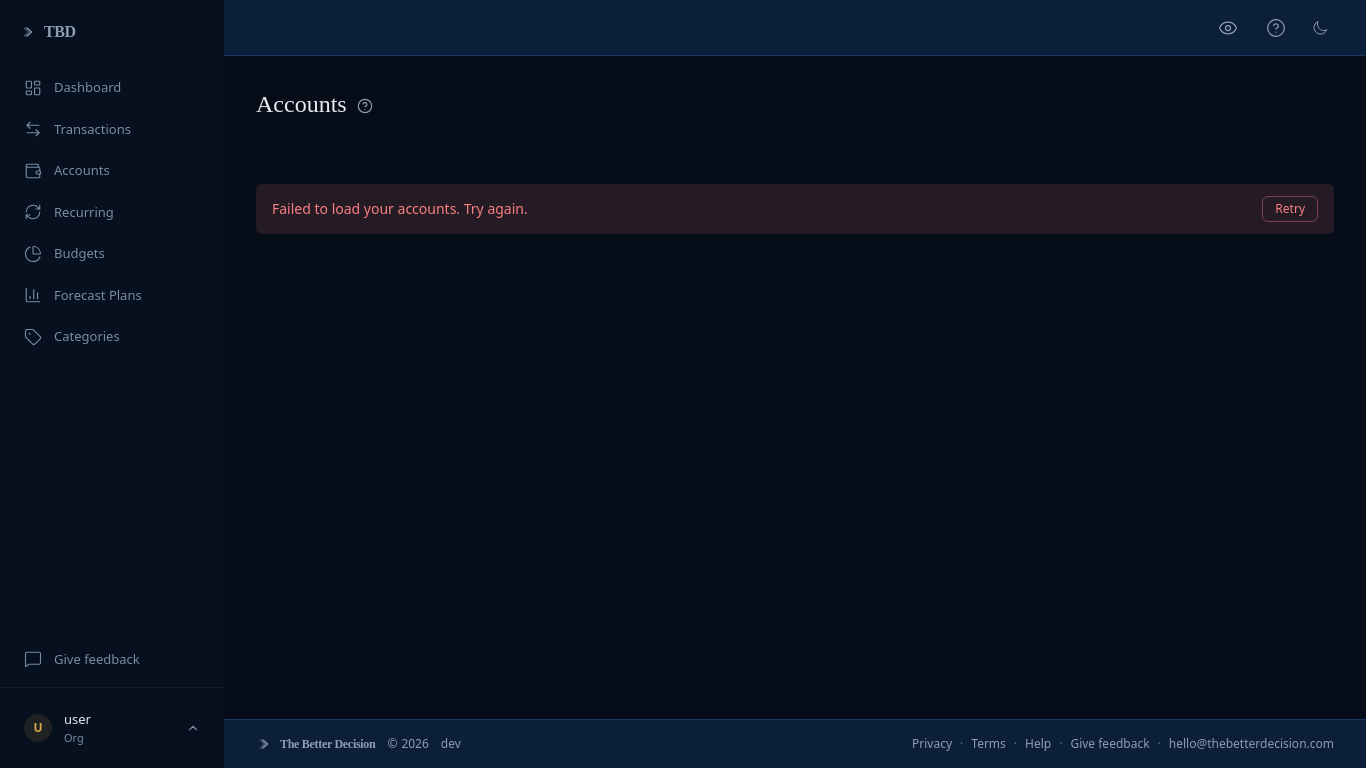
AccountsPage initial fetch error › retry refetches and renders the list on success
This screenshot has width=1366, height=768.
Expected: the message "Failed to load your accounts. Try again. Retry" is shown, [256, 184, 1334, 234]
Step 1. Click the button "Retry" → (1290, 209), box [1262, 196, 1318, 222]
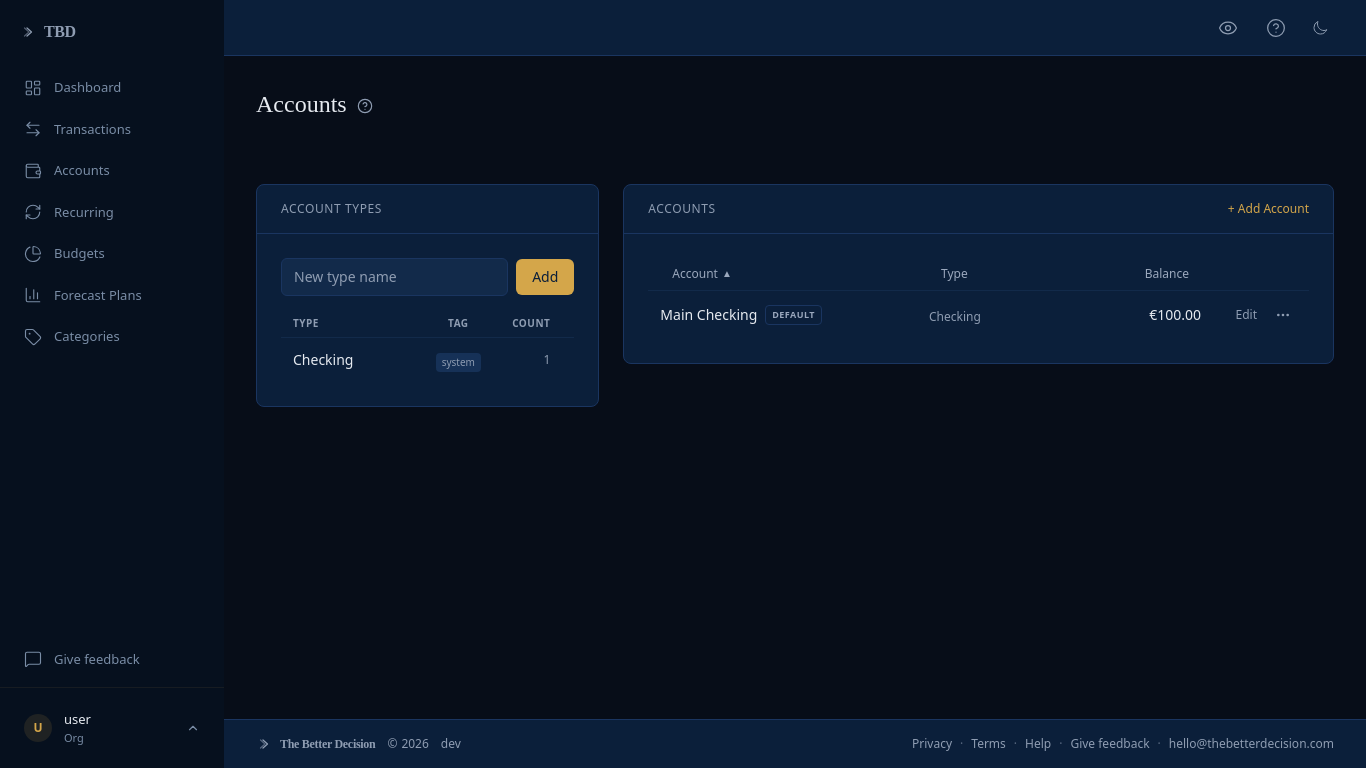
Expected: the element with test id "account-row-10" is shown, [660, 301, 1297, 329]
Expected: the message with test id "accounts-initial-load-error" is gone
